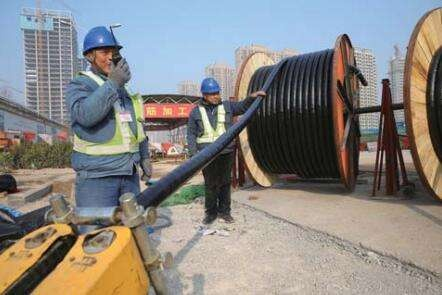blue: (82, 25, 122, 74), (199, 77, 221, 104)
